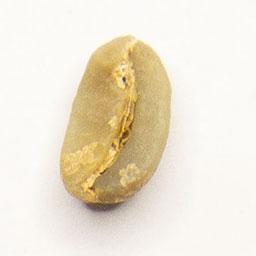longberry: (56, 30, 175, 209)
